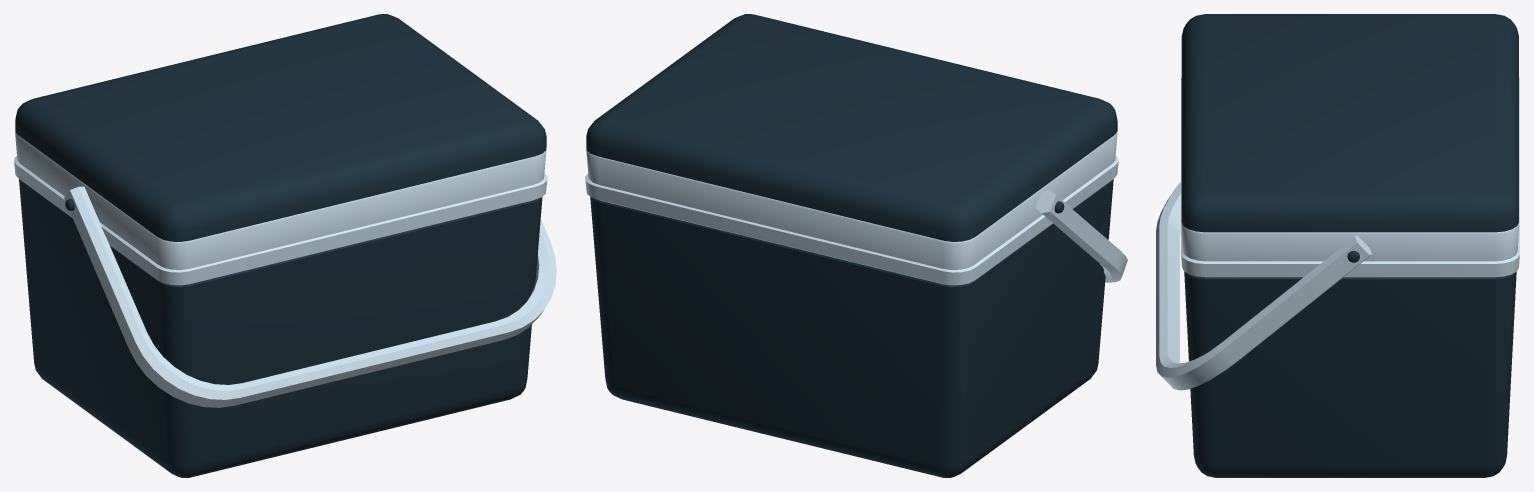
File: FreezerBag.fbx
The picture shows the model from 3 angles, left to right: view 1: azimuth 30°, elevation 25°; view 2: azimuth 150°, elevation 25°; view 3: azimuth 270°, elevation 25°; orthographic projection. The views are drawn at different scales.
Parts seen in each view (by area): view 1: FreezerBag, FreezerBagLid; view 2: FreezerBag, FreezerBagLid; view 3: FreezerBag, FreezerBagLid.
Part boxes in pixels (x1,y1,x2,y2): FreezerBag: (14, 132, 556, 477); FreezerBagLid: (15, 14, 546, 241); FreezerBag: (585, 132, 1127, 477); FreezerBagLid: (586, 14, 1117, 241); FreezerBag: (1156, 77, 1519, 477); FreezerBagLid: (1181, 14, 1518, 232).
Size of the model in its own units: 52.03 by 32.91 by 37.3.
